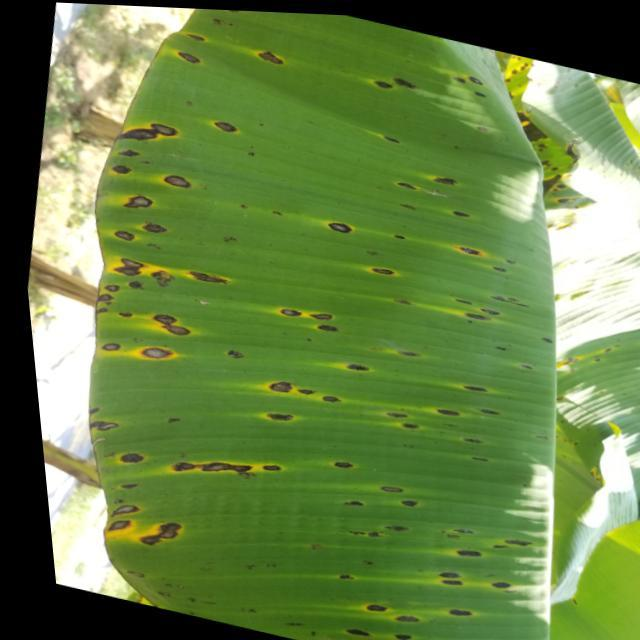Early_rust: (82, 0, 577, 640)
